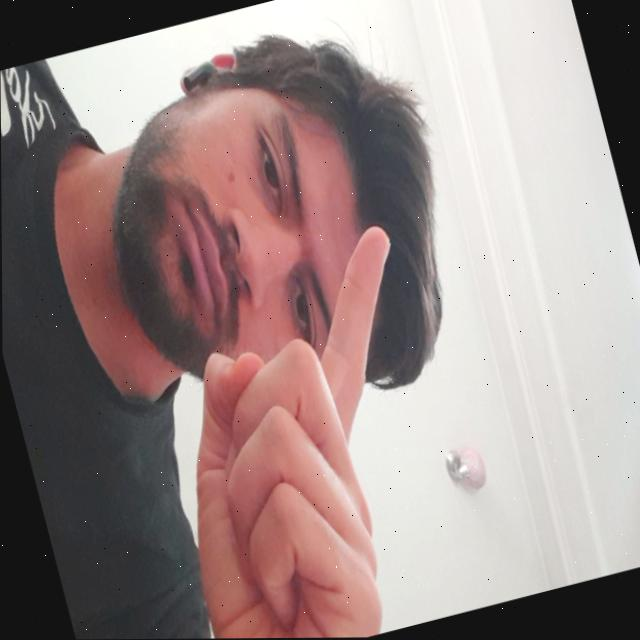Head: (57, 0, 498, 458)
One: (114, 218, 484, 639)
